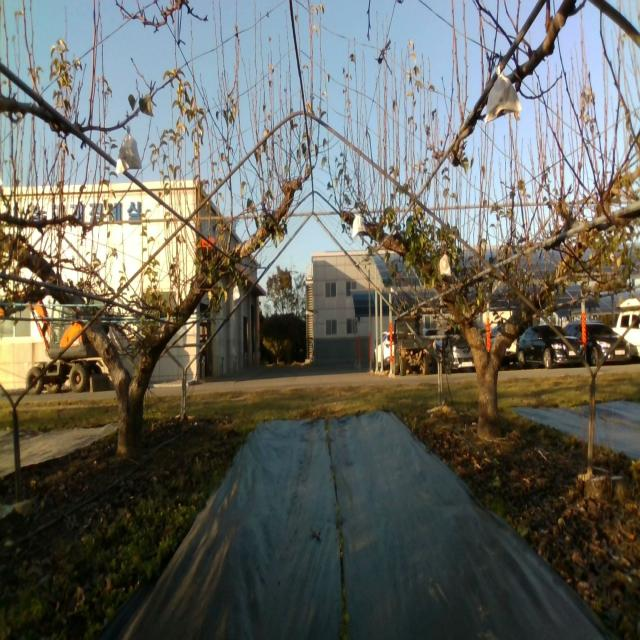pearbags: (484, 64, 522, 124), (115, 124, 144, 174), (352, 215, 367, 238), (439, 251, 452, 277)
